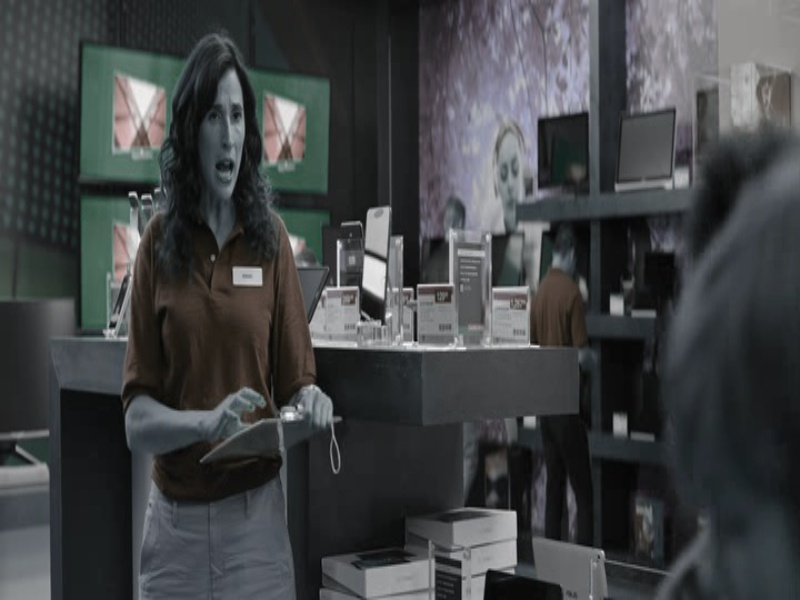TsisyArotava: (177, 65, 265, 204)
